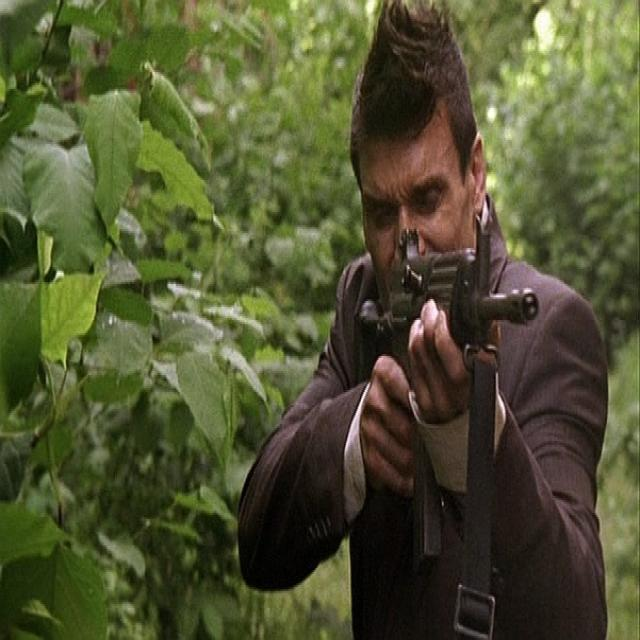rifle: (355, 193, 543, 579)
